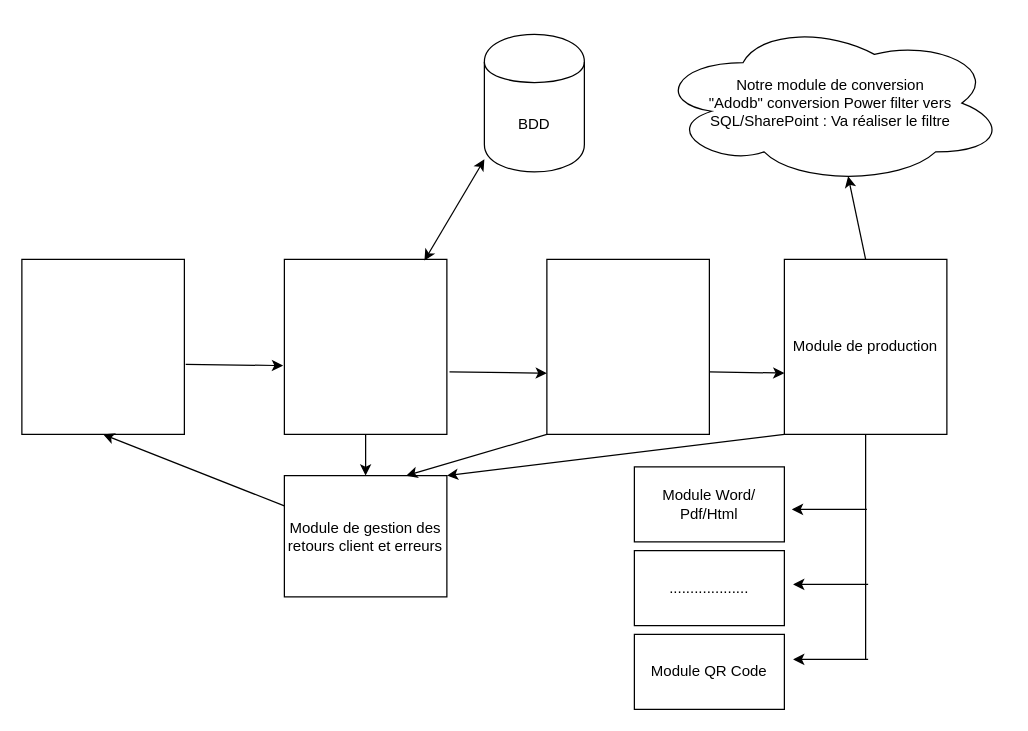
This 1028x731 diagram has some shape labels left out. The box of each missing label's shape, as (x1, y1, x2, y2) in pixels:
Couche API Interface Http Machine virtuelle ou service App Azure: (21, 258, 184, 434)
Couche Authentification Consulte et vérifie les demandes: (283, 258, 447, 434)
Ordo prod Service de gestion de la queue des jobs: (546, 258, 709, 434)
